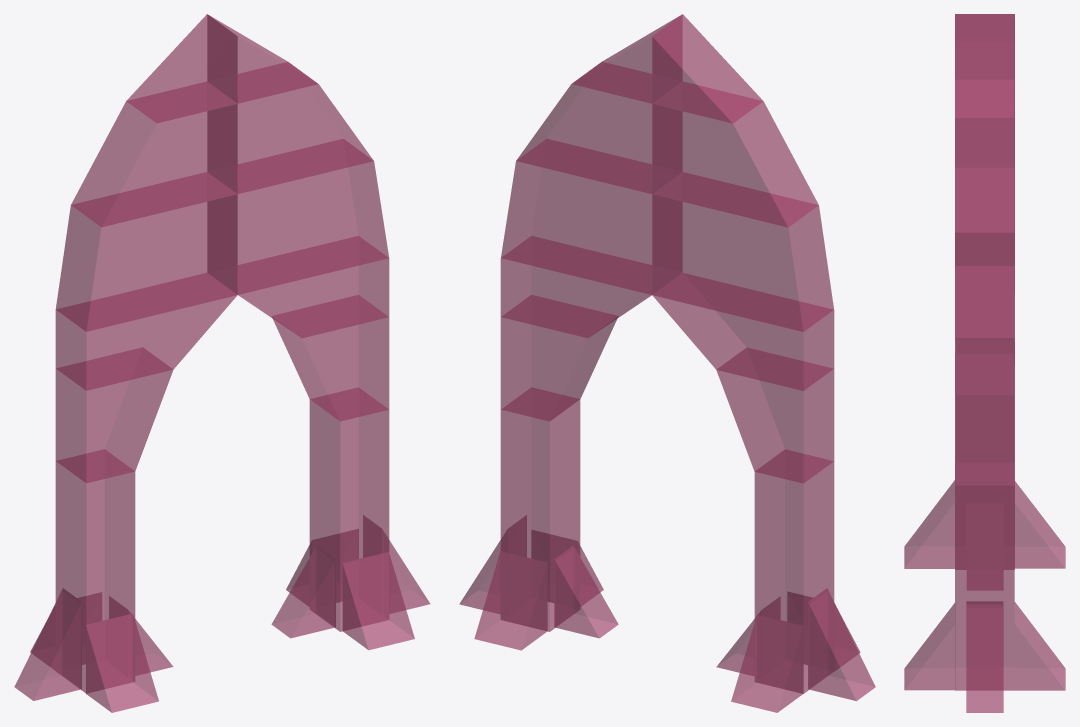
The model's file is SM_Bld_Arch_01_Collision.fbx.
3 renders of one model, left to right at view 1: azimuth 30°, elevation 25°; view 2: azimuth 150°, elevation 25°; view 3: azimuth 270°, elevation 25°, orthographic. The views are drawn at different scales.
Parts seen in each view (by area): view 1: SM_Bld_Arch_01_Collision; view 2: SM_Bld_Arch_01_Collision; view 3: SM_Bld_Arch_01_Collision.
Boxes of the visible parts, bbox=[...] form: SM_Bld_Arch_01_Collision: bbox=[14, 14, 429, 712]; SM_Bld_Arch_01_Collision: bbox=[459, 14, 875, 712]; SM_Bld_Arch_01_Collision: bbox=[904, 14, 1065, 712].
Bounding box in the file's own units: 631 × 942 × 227.
